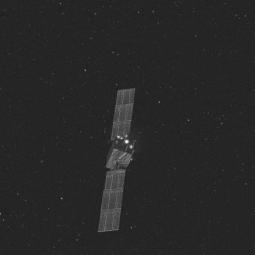smart_1: (96, 88, 134, 241)
